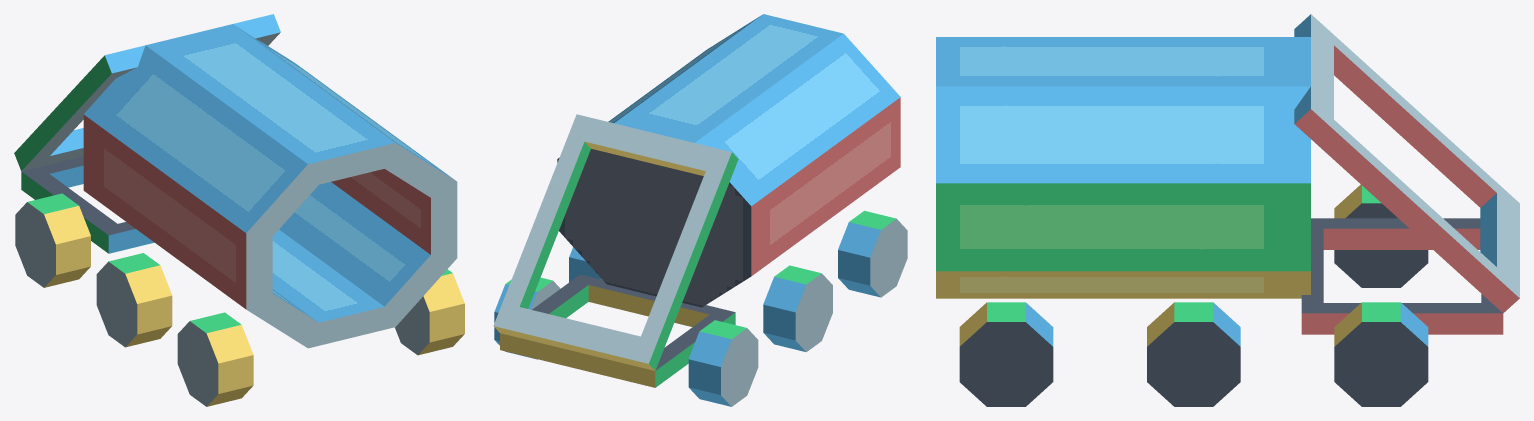
File: truckma.glb
The picture shows the model from 3 angles, left to right: view 1: azimuth 30°, elevation 25°; view 2: azimuth 150°, elevation 25°; view 3: azimuth 270°, elevation 25°; orthographic projection. The views are drawn at different scales.
Parts seen in each view (by area): view 1: tube, cylinder (×4), top, bottom, front; view 2: tube, front, top, cylinder (×5), bottom; view 3: tube, cylinder (×4), top, bottom, front.
Boxes of the visible parts, <box> form: tube: <box>93,31,457,348</box>; cylinder (×4): <box>15,193,464,406</box>; top: <box>14,14,280,171</box>; bottom: <box>21,156,153,253</box>; front: <box>83,24,303,197</box>; tube: <box>608,14,900,269</box>; front: <box>557,116,760,307</box>; top: <box>493,114,738,370</box>; cylinder (×5): <box>494,210,907,406</box>; bottom: <box>500,274,735,387</box>; tube: <box>936,37,1287,298</box>; cylinder (×4): <box>959,184,1428,406</box>; top: <box>1294,14,1519,313</box>; bottom: <box>1301,218,1503,334</box>; front: <box>1287,37,1310,298</box>.
Bounding box in the file's own units: 0.875 × 0.8125 × 1.56.
2 materials, 2 textured.
